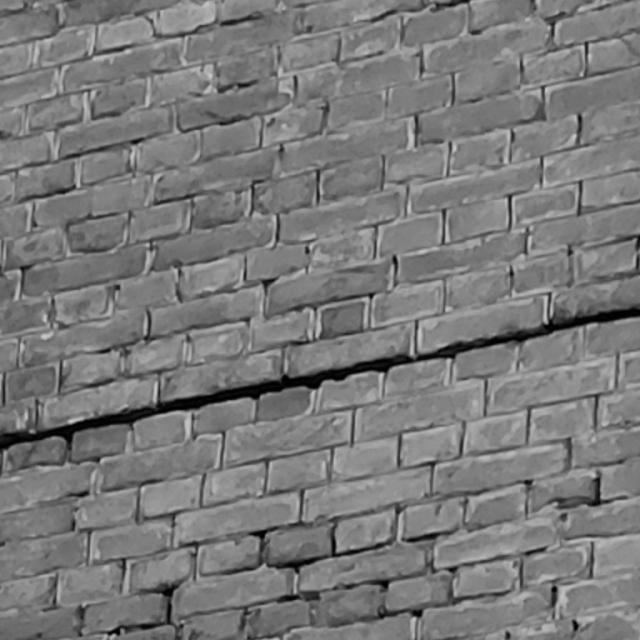crack: (1, 304, 639, 453)
